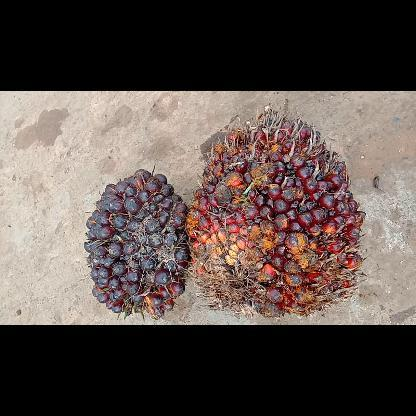TBS masak: (185, 107, 365, 317)
TBS mentah: (84, 166, 192, 318)
